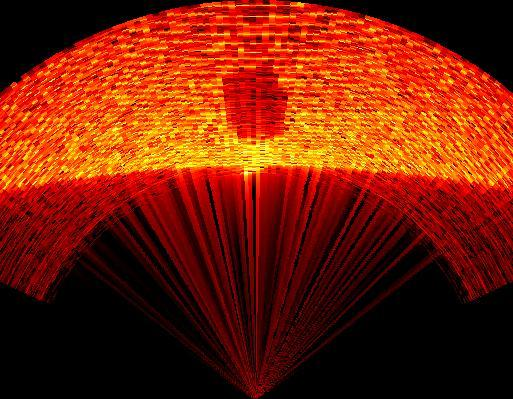box_crate: (221, 60, 294, 172)
